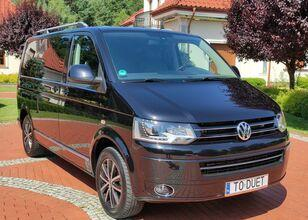vehicle: (17, 23, 289, 219)
